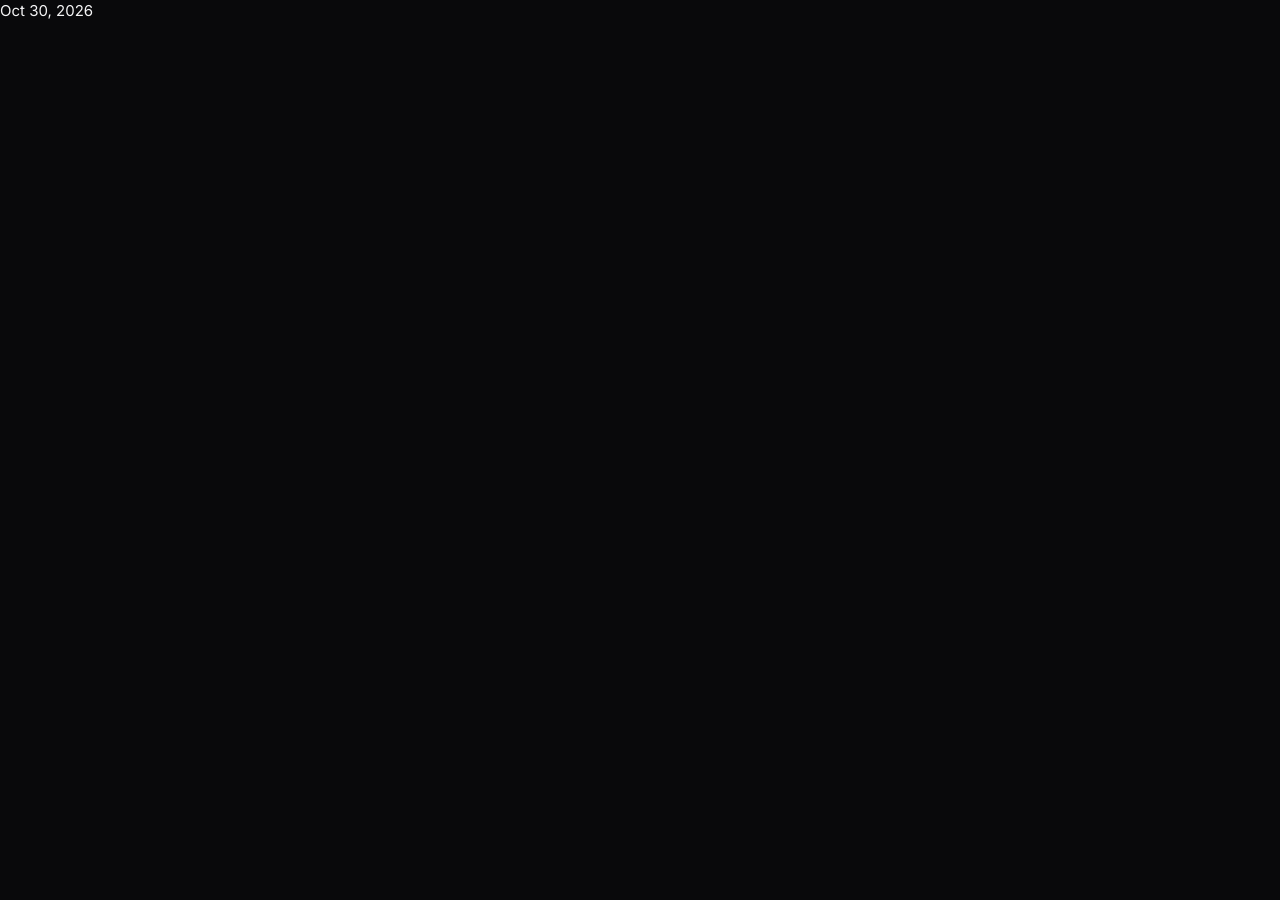
Test: DateCell typed dates (M32) › test typing friday and Enter sets the date and closes the picker
This screenshot has width=1280, height=900.
Click the button with aria-label "Edit Due" at (47, 10), box [0,0,1279,22]
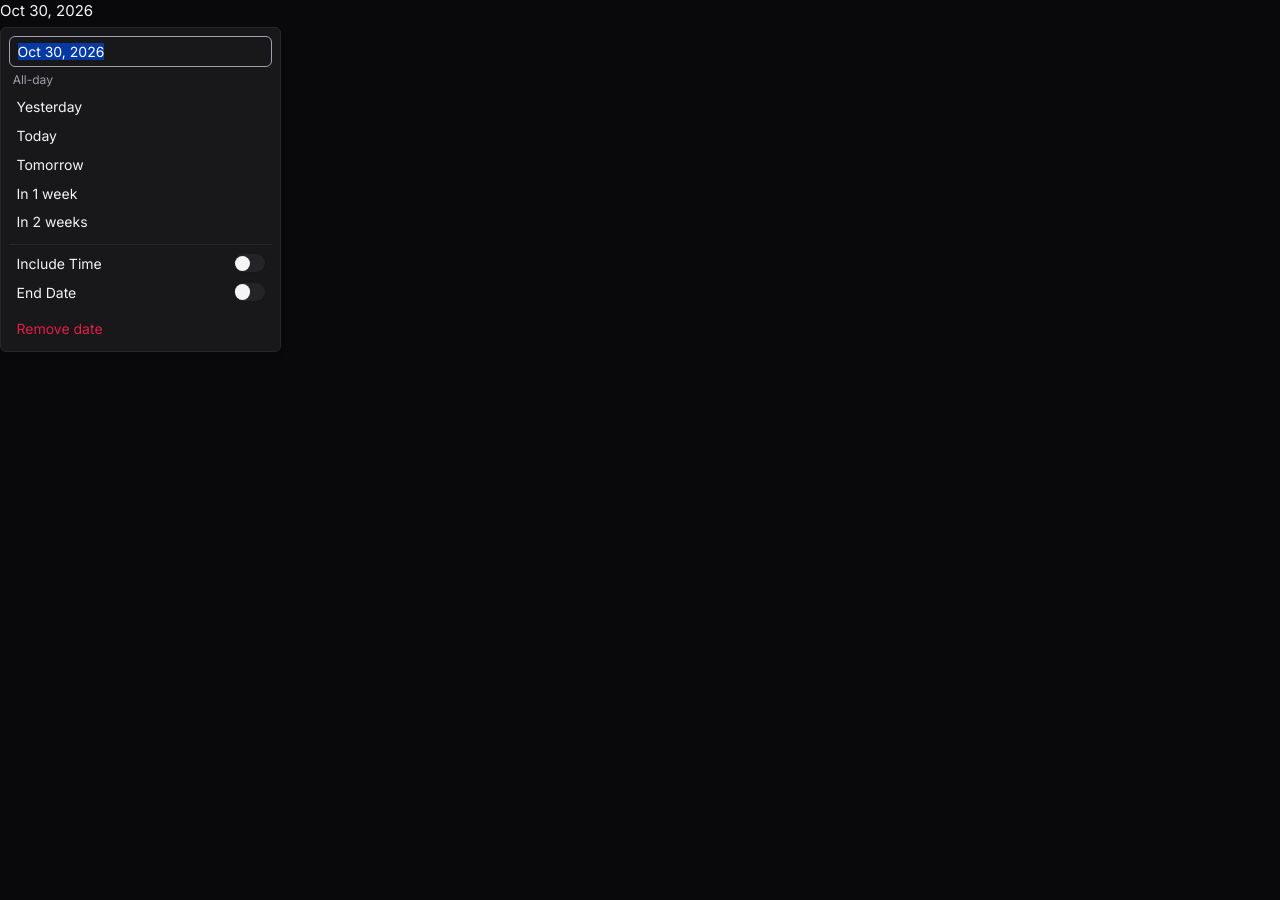
Replace the text in the field named "Starts" with "friday" at (141, 51), box [9,36,272,67]
Then press Enter
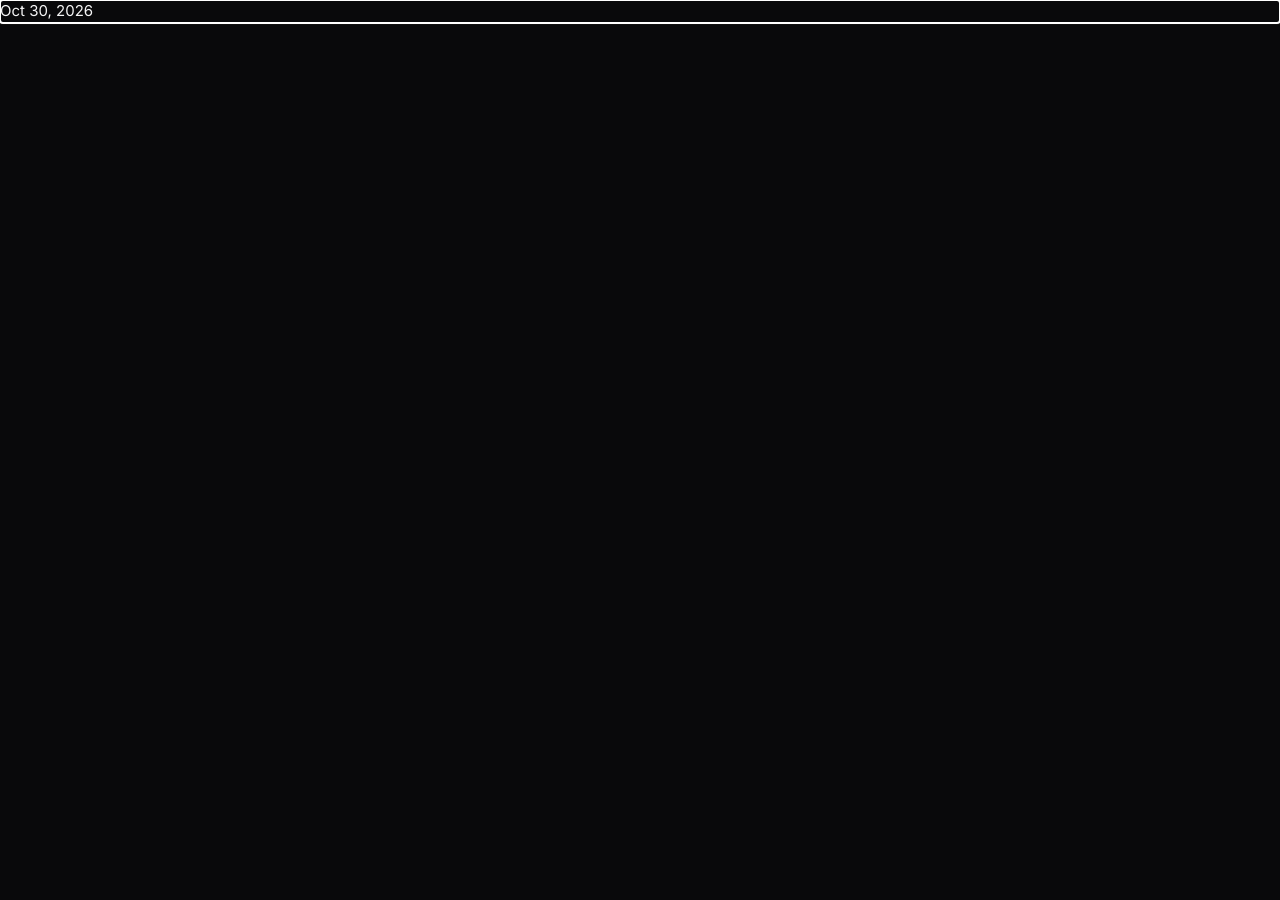
Expected: the element with test id "date-picker" is gone
